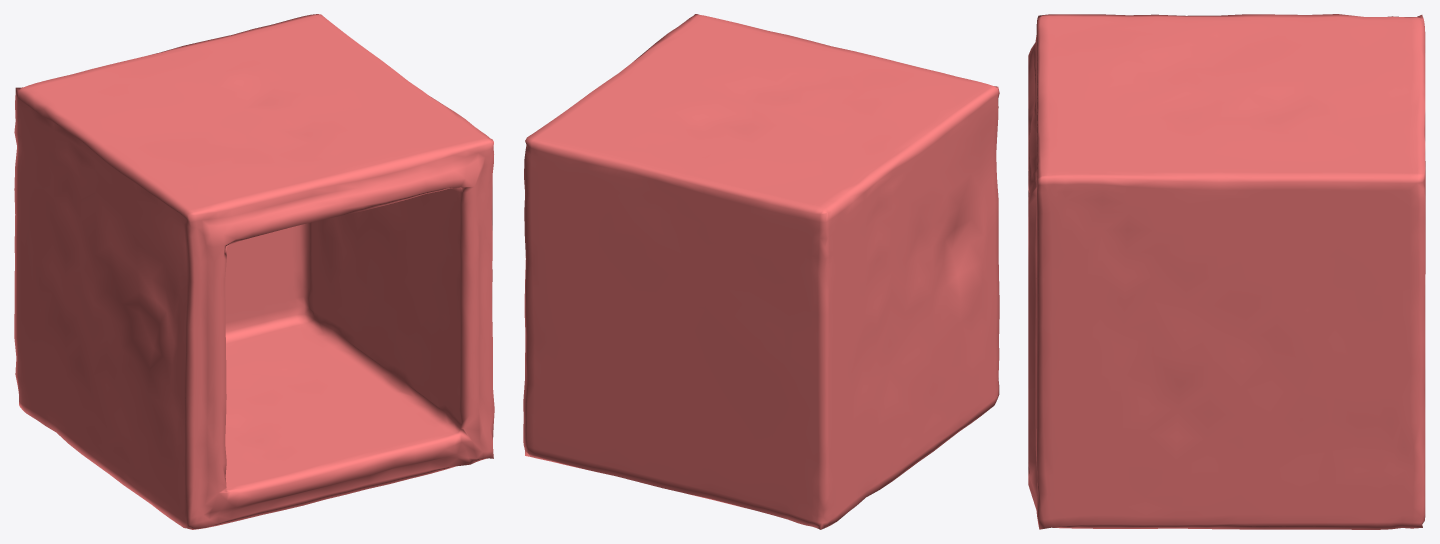
The model's file is organ01.fbx.
3 renders of one model, left to right at view 1: azimuth 30°, elevation 25°; view 2: azimuth 150°, elevation 25°; view 3: azimuth 270°, elevation 25°, orthographic. The views are drawn at different scales.
Visible parts, largest first — view 1: pCube1; view 2: pCube1; view 3: pCube1.
Boxes of the visible parts, x1,y1,x2,y2 form: pCube1: (14, 14, 494, 529); pCube1: (523, 14, 999, 529); pCube1: (1028, 14, 1425, 529).
Bounding box in the file's own units: 2.01 × 2 × 2.04.
